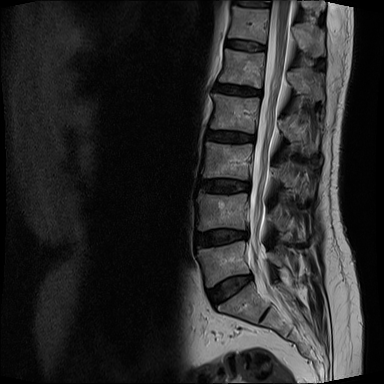Degenerative Disc Disease (DDD): (201, 127, 257, 149), (195, 176, 253, 196), (207, 81, 263, 101)
Lumbar Disc Bulge (LDB): (203, 265, 258, 312), (185, 223, 252, 251)
Normal IVD: (221, 33, 268, 54)
Spinal Stenosis (SS): (232, 260, 264, 295), (233, 212, 260, 251)
